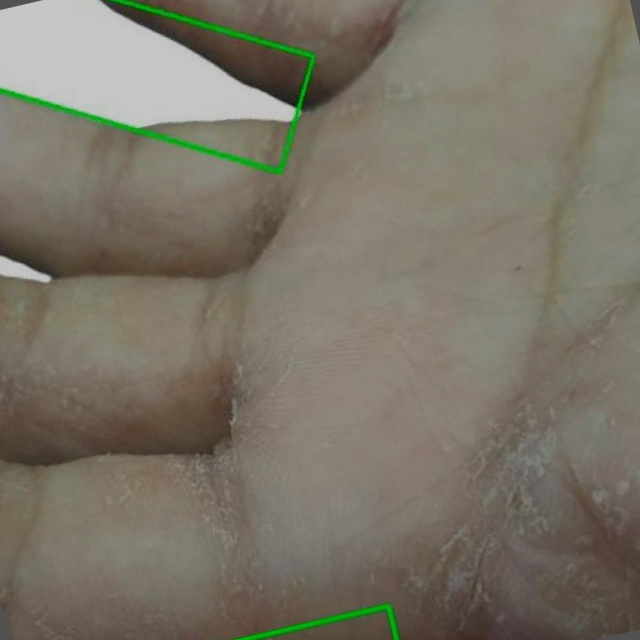Scabies: (0, 0, 313, 173)
